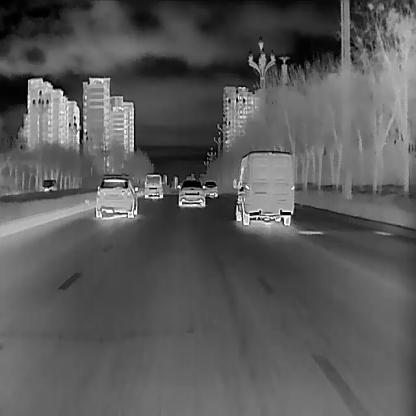car: (231, 150, 294, 225), (93, 172, 138, 218), (176, 179, 206, 207), (143, 172, 163, 198), (202, 180, 218, 198), (40, 178, 58, 192)
